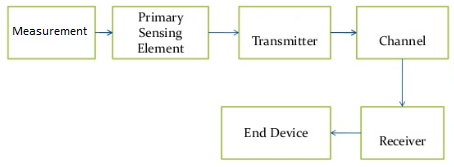arrow: (399, 59, 406, 107), (328, 128, 361, 136), (209, 29, 239, 37), (331, 29, 358, 36), (96, 28, 115, 36)
process: (218, 104, 332, 161), (111, 5, 210, 62), (237, 4, 334, 61), (6, 4, 95, 65), (355, 4, 450, 61), (358, 104, 447, 161)
text: (137, 10, 185, 55), (251, 32, 319, 47), (12, 24, 88, 37), (242, 127, 310, 140), (379, 33, 428, 46), (379, 134, 427, 147)
